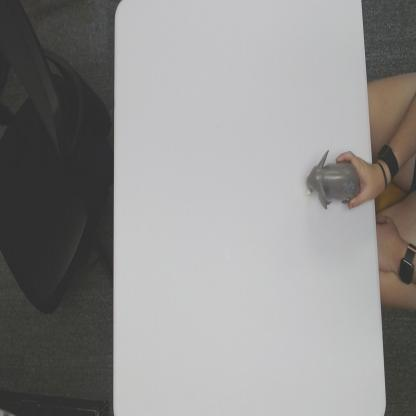Elephant: (305, 146, 361, 208)
Hand: (335, 149, 377, 210)
